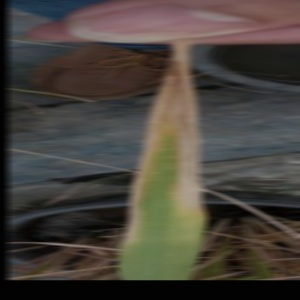Leaf_Blast: (123, 106, 205, 280)
